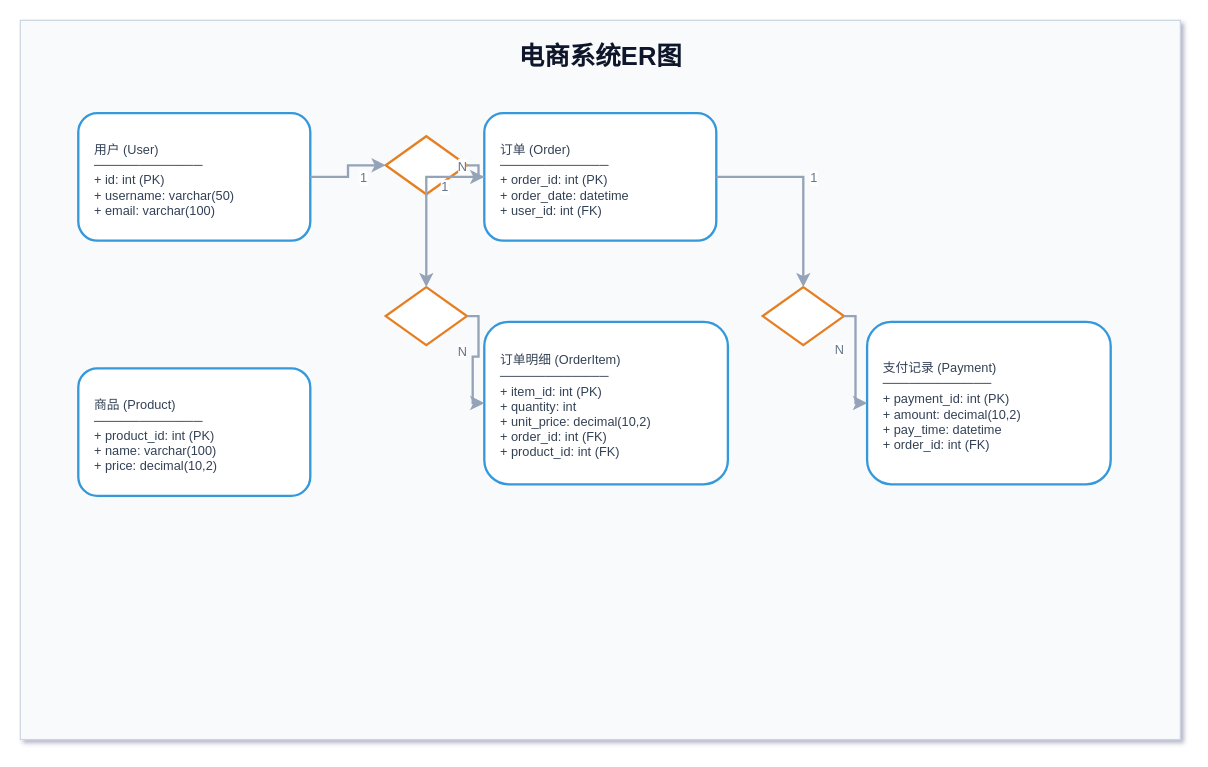
This 1208x767 diagram has some shape labels left out. The shapes that lost their labels are listed below. From the top down, each one's centre as x and y in pixels, then its label:
the point at 425,165: 下单
the point at 425,315: 包含
the point at 802,315: 支付
